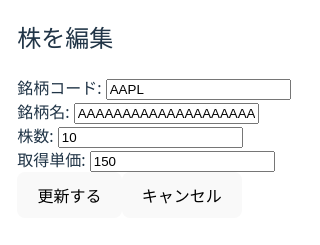
Test case: EditStockForm › shows error message when name is too long and form is submitted
更新ボタンをクリック
Click the button "更新する": (70, 195) [17,172,122,218]
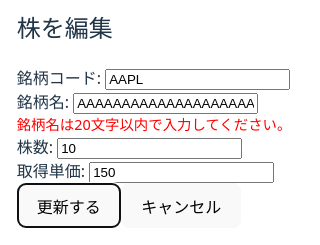
Now the text "銘柄名は20文字以内で入力してください。" is shown, box [17,114,291,135]
